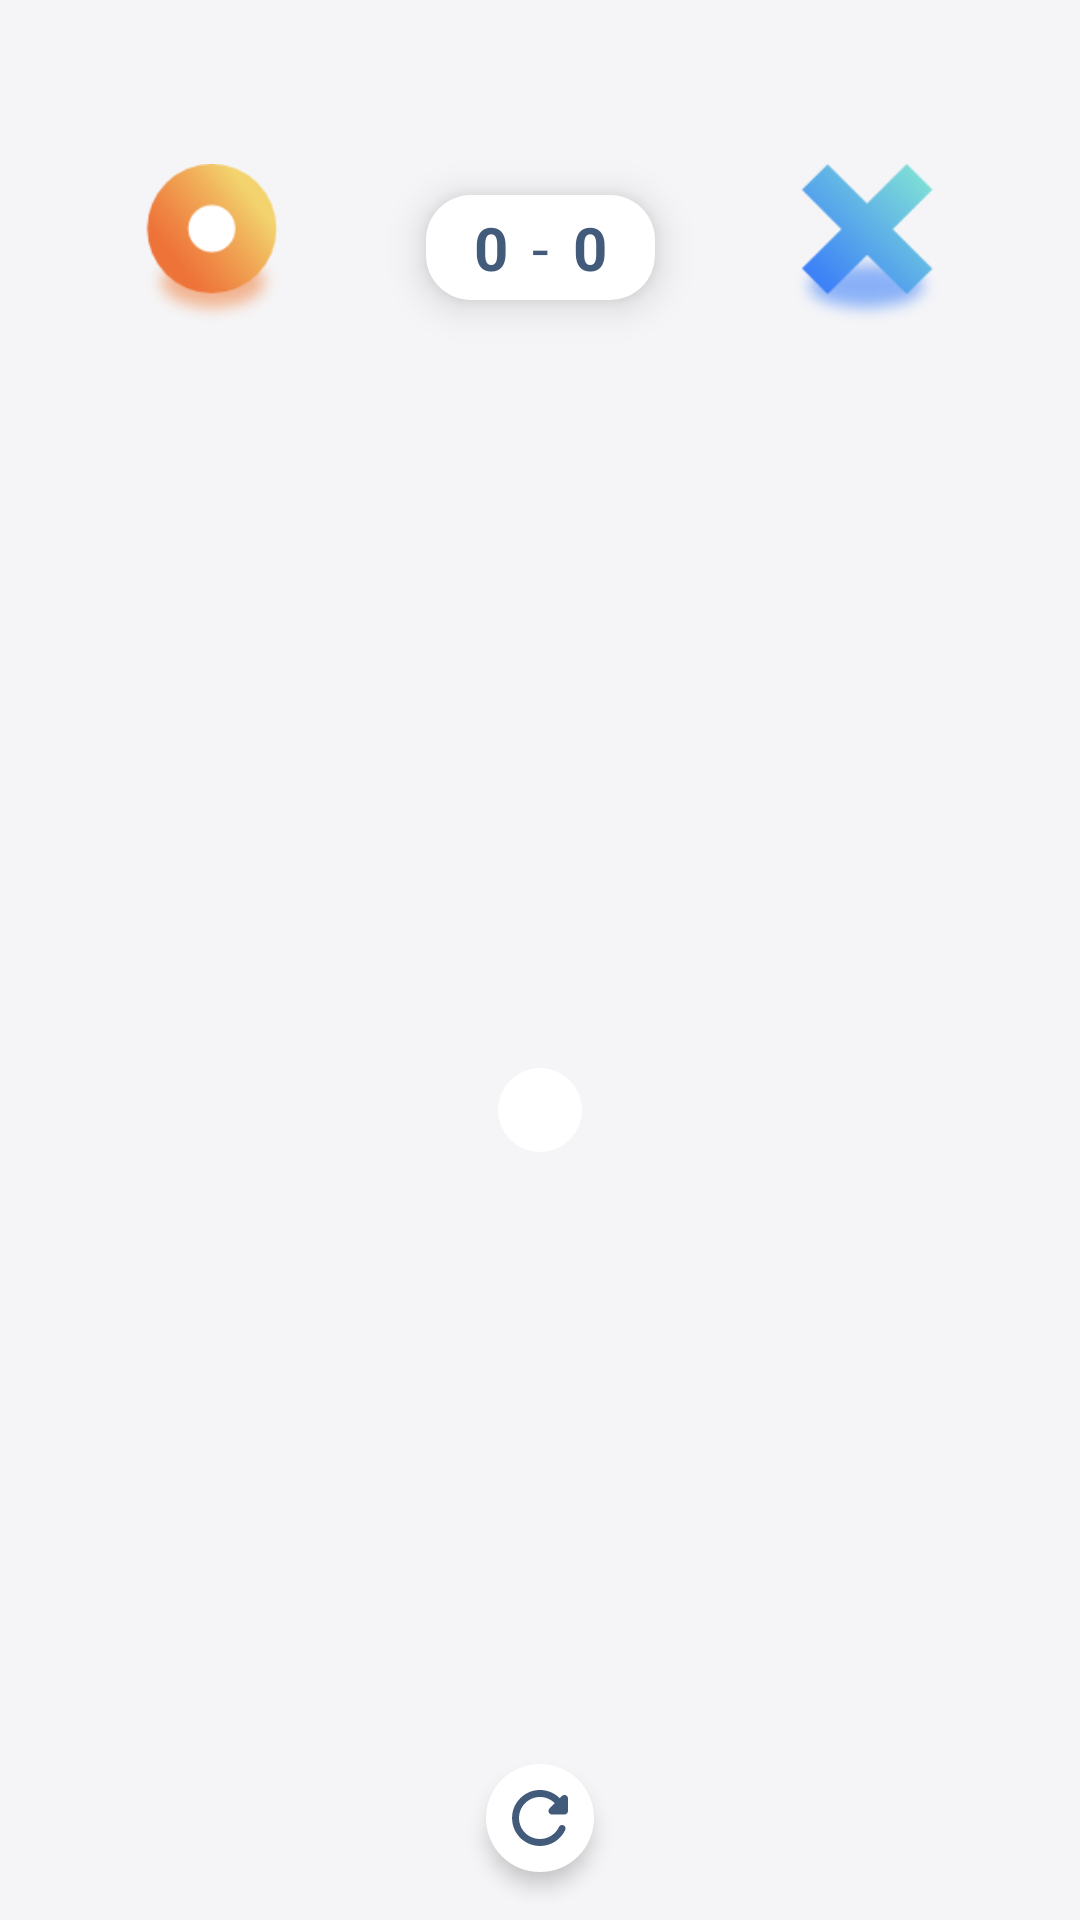

Screen size 1080x1920. Icon name, then its box in pixels as (x1, y1, x2, y2):
refresh: (486, 1764, 594, 1872)
